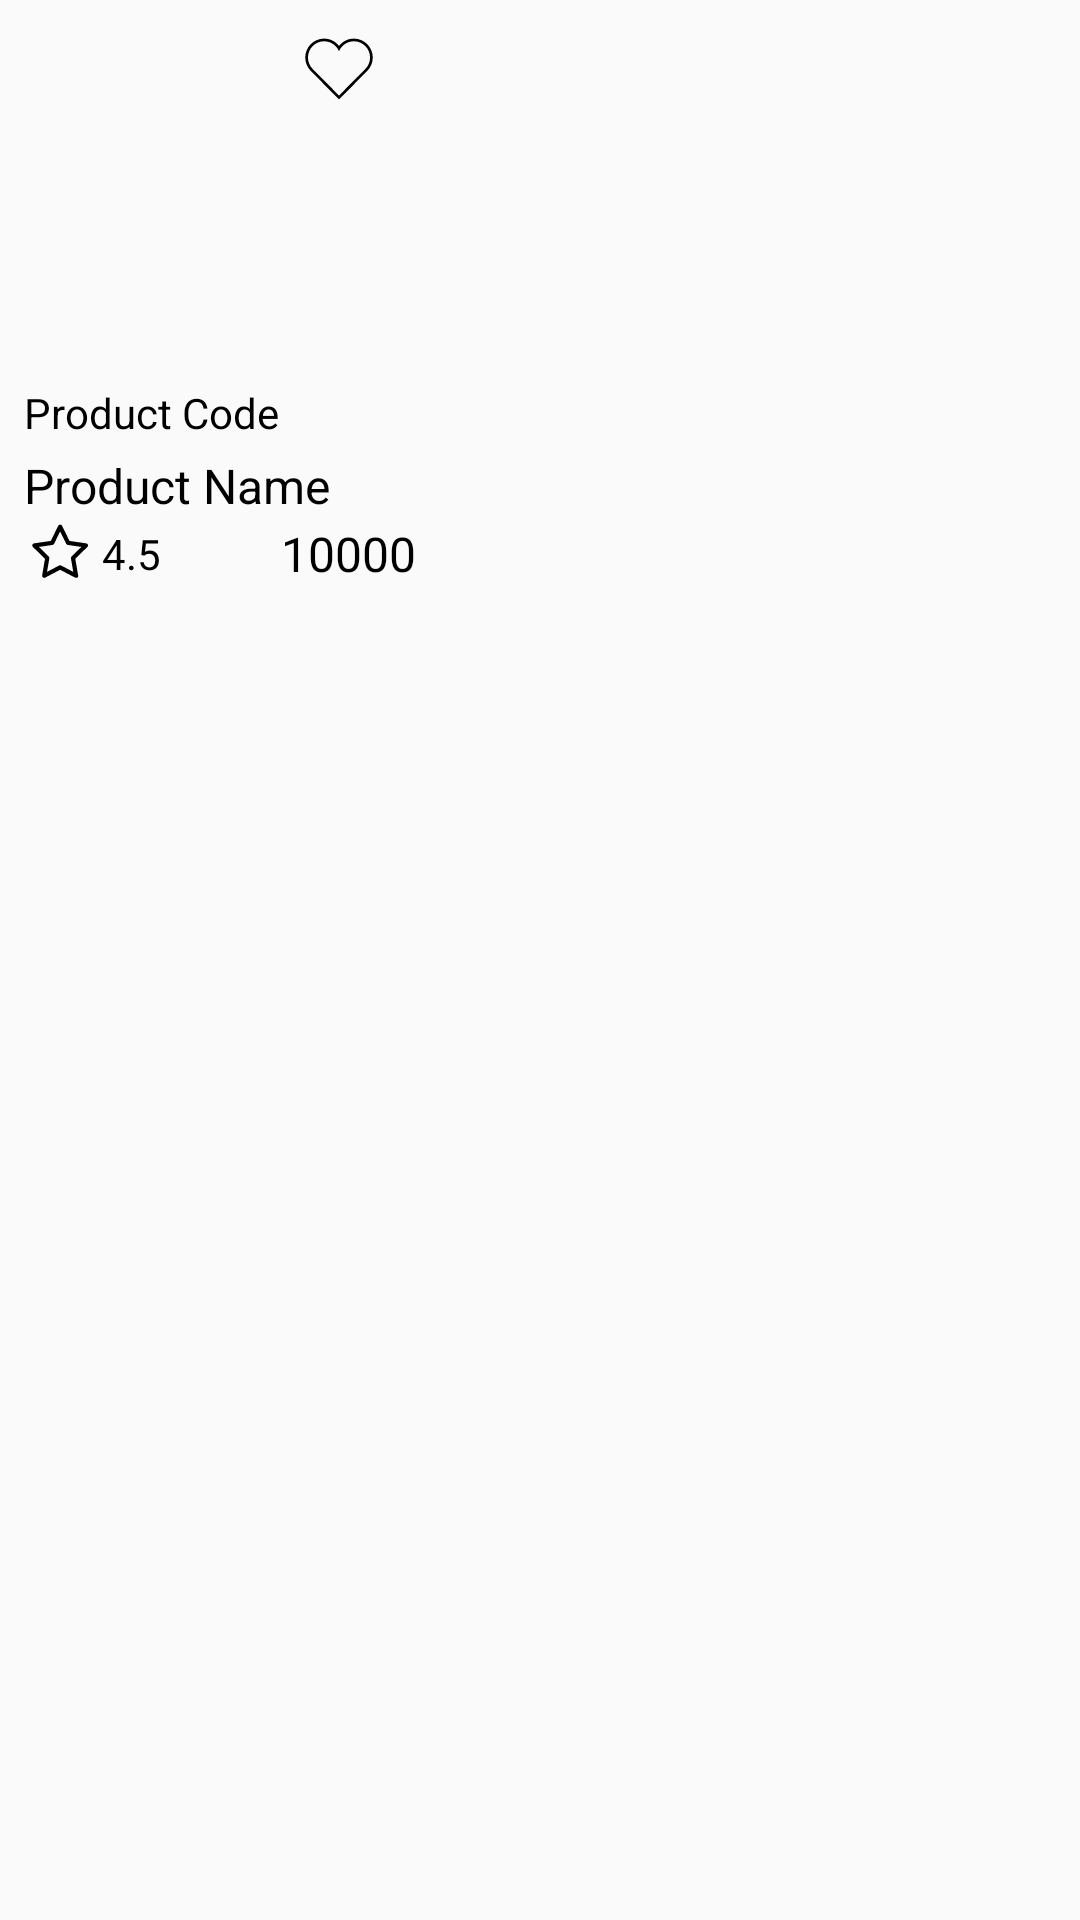

Icon click points for this 1080px x 1920px phone screenshot, format (x=x, y=y):
Add to Favorites: (x=339, y=68)
